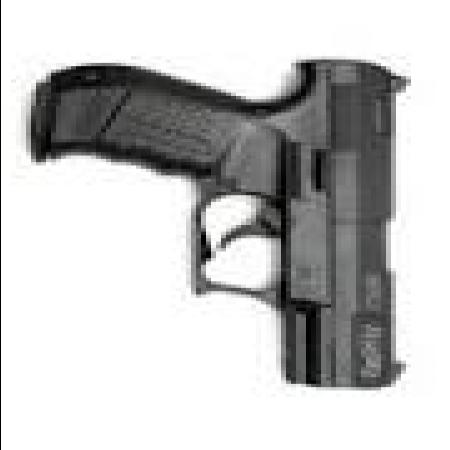Pistol: (35, 62, 415, 390)
